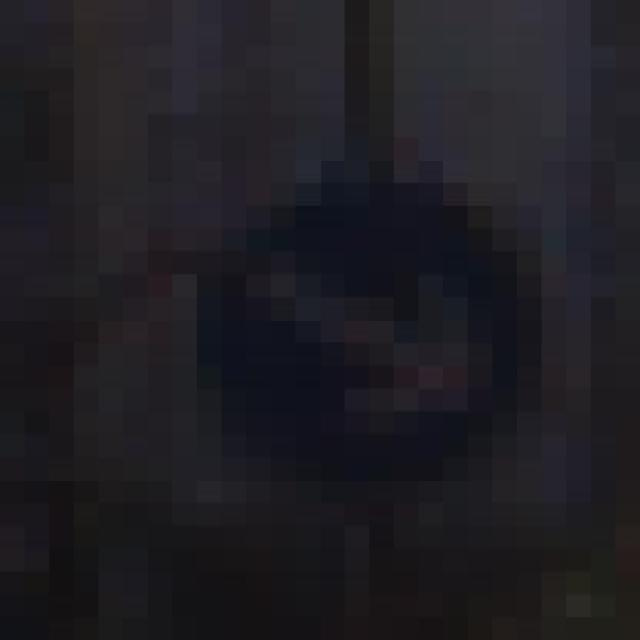Keep-Right: (148, 137, 590, 549)
